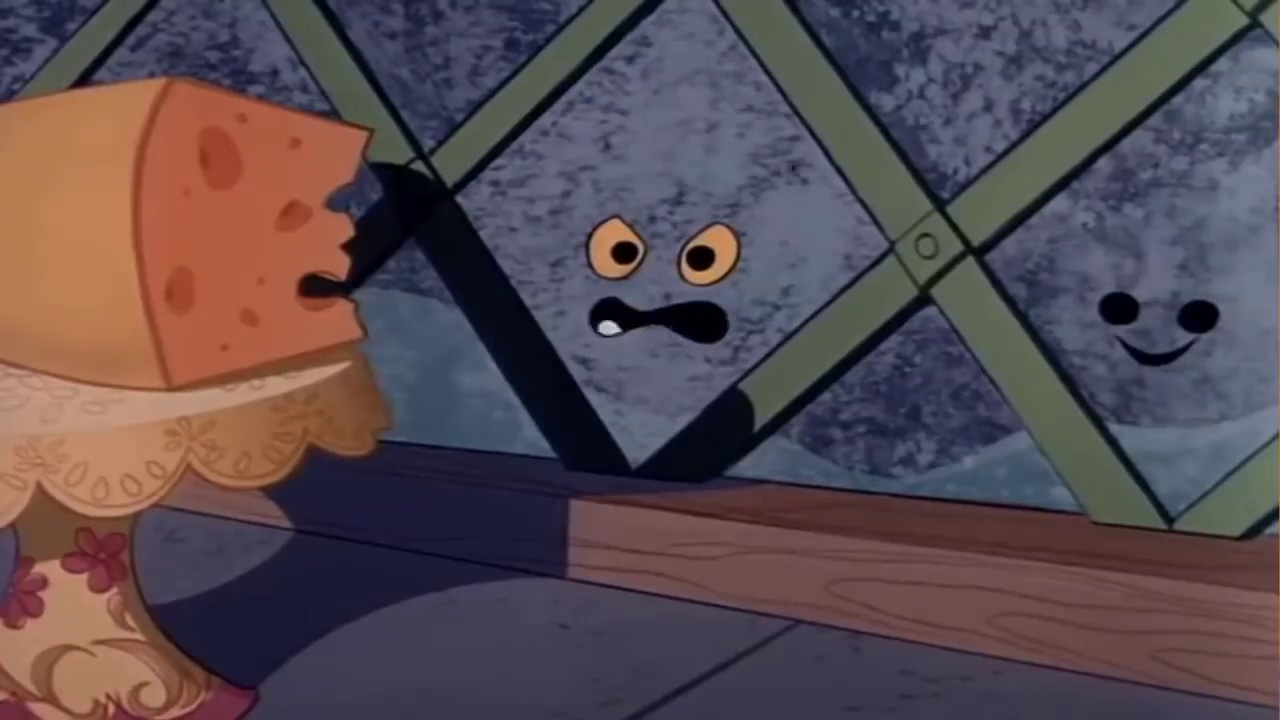face: (569, 200, 758, 347)
